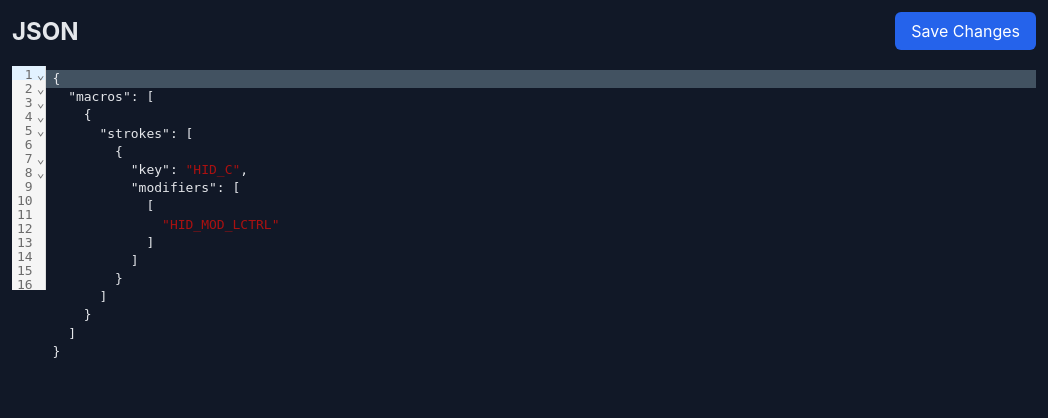
Scenario: Json › does not save an invalid configuration
Click the button "Save Changes" at point(966, 31), box [895, 12, 1036, 50]
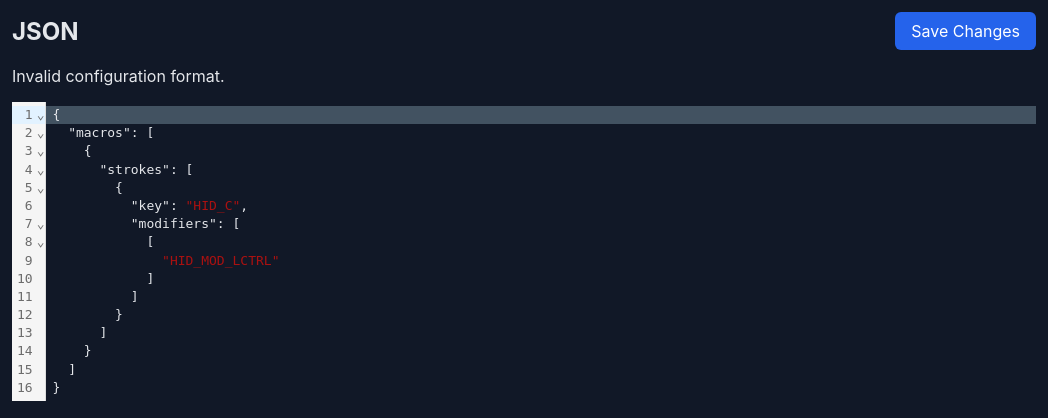
Expected: the text "Invalid configuration format." is shown, [12, 66, 224, 86]
